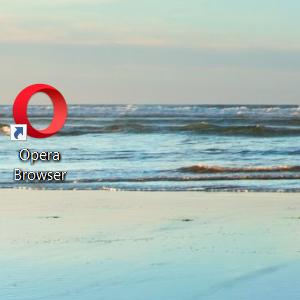opera: (10, 83, 68, 141)
